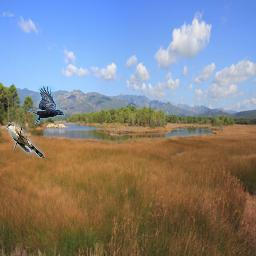Crow: (25, 86, 65, 124)
Cuckoo: (5, 122, 45, 158)
